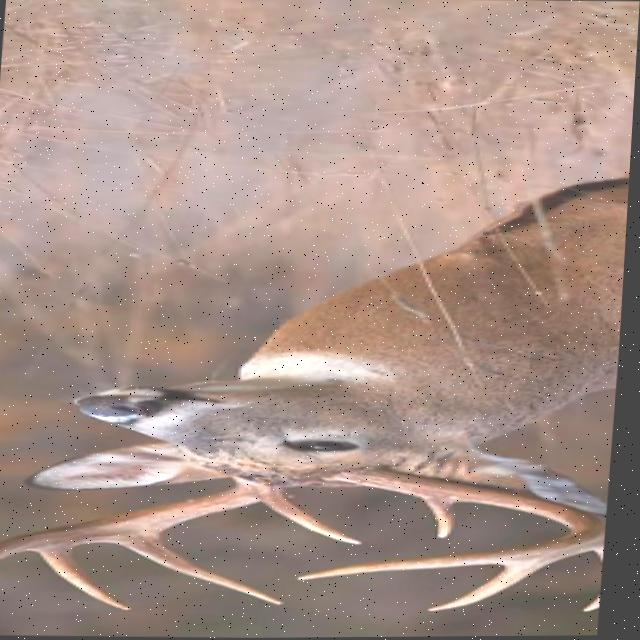L-F: (301, 467, 612, 580)
L-G1: (416, 494, 465, 539)
L-G3: (433, 558, 566, 612)
R-G1: (264, 493, 369, 544)
R-G2: (116, 530, 291, 605)
R-G3: (31, 544, 141, 610)
